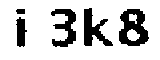3: (48, 8, 79, 50)
8: (116, 8, 152, 50)
i: (11, 5, 32, 48)
k: (81, 5, 116, 52)
